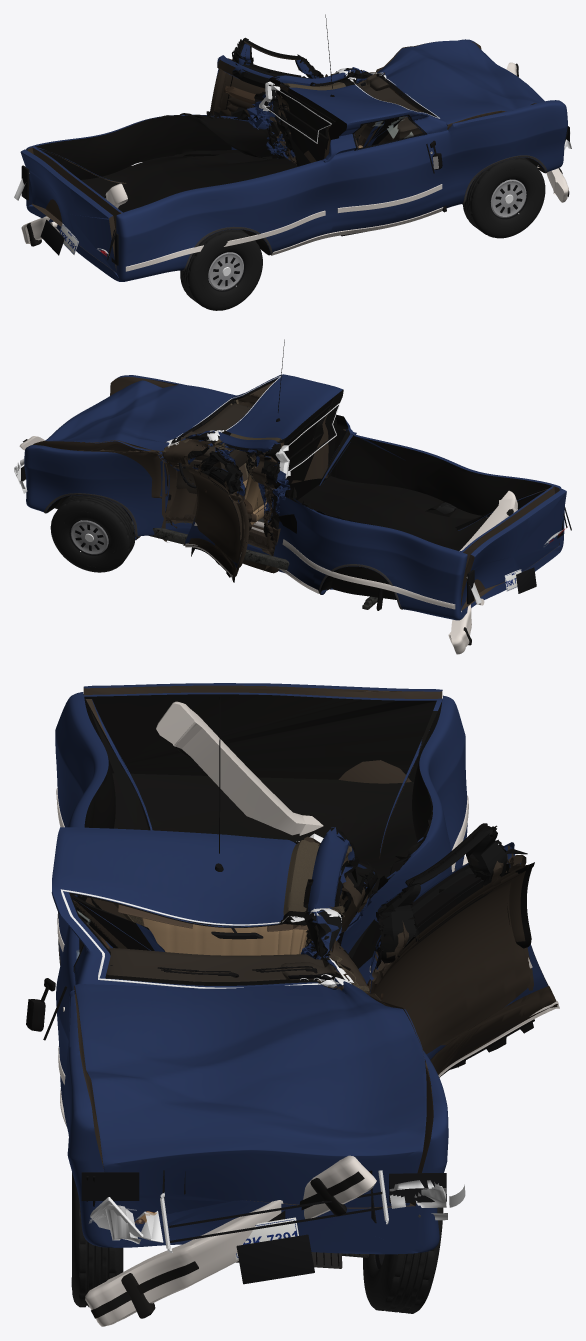
File: pickup87_side_d3.glb
3 views of the same model, one above another, from view 1: azimuth 30°, elevation 25°; view 2: azimuth 150°, elevation 25°; view 3: azimuth 270°, elevation 25° (orthographic). The views are drawn at different scales.
Parts seen in each view (by area): view 1: Body, Hood, Wheel_FR_mesh, Wheel_RR_mesh, Tailgate, Door_FR, Door_FL, Trim, Trim_FR, Interior, Ends, Glass (+4 smaller); view 2: Body, Hood, Wheel_FL_mesh, Tailgate, Door_FL, Interior, Trim, Bumper_R, Ends, Underbody, Glass, Trim_FL (+1 smaller); view 3: Body, Hood, Door_FL, Ends, Interior, Bumper_F, Bumper_R, Tailgate, Wheel_FL_mesh, Glass_FL, Trim_FL, Glass (+4 smaller).
Part boxes in pixels (x1,y1,x2,y2): Body: (26,39,567,281); Hood: (377,40,544,129); Wheel_FR_mesh: (462,157,545,238); Wheel_RR_mesh: (180,229,262,310); Tailgate: (20,149,116,272); Door_FR: (334,115,445,231); Door_FL: (210,40,323,115); Trim: (125,14,547,271); Trim_FR: (334,114,443,236); Interior: (356,73,421,148); Ends: (14,126,571,265); Glass: (259,68,439,143); Body: (24,374,564,620); Hood: (33,380,235,454); Wheel_FL_mesh: (50,495,135,572); Tailgate: (461,489,566,609); Door_FL: (183,451,249,578); Interior: (173,404,266,524); Trim: (44,339,486,609); Bumper_R: (448,490,517,654); Ends: (14,458,571,604); Underbody: (131,518,484,610); Glass: (166,376,339,478); Trim_FL: (185,451,252,582); Body: (51,692,467,1254); Hood: (74,981,426,1218); Door_FL: (369,823,557,1074); Ends: (81,1170,465,1284); Interior: (106,904,341,981); Bumper_F: (85,1155,376,1326); Bumper_R: (156,701,468,865); Tailgate: (83,683,442,783); Wheel_FL_mesh: (363,1207,443,1313); Glass_FL: (374,828,507,951); Trim_FL: (367,825,559,1077); Glass: (60,833,353,988).
Bounding box in the file's own units: 5.16 × 2.36 × 2.45.
Materials: 34 (5 with a texture image).
